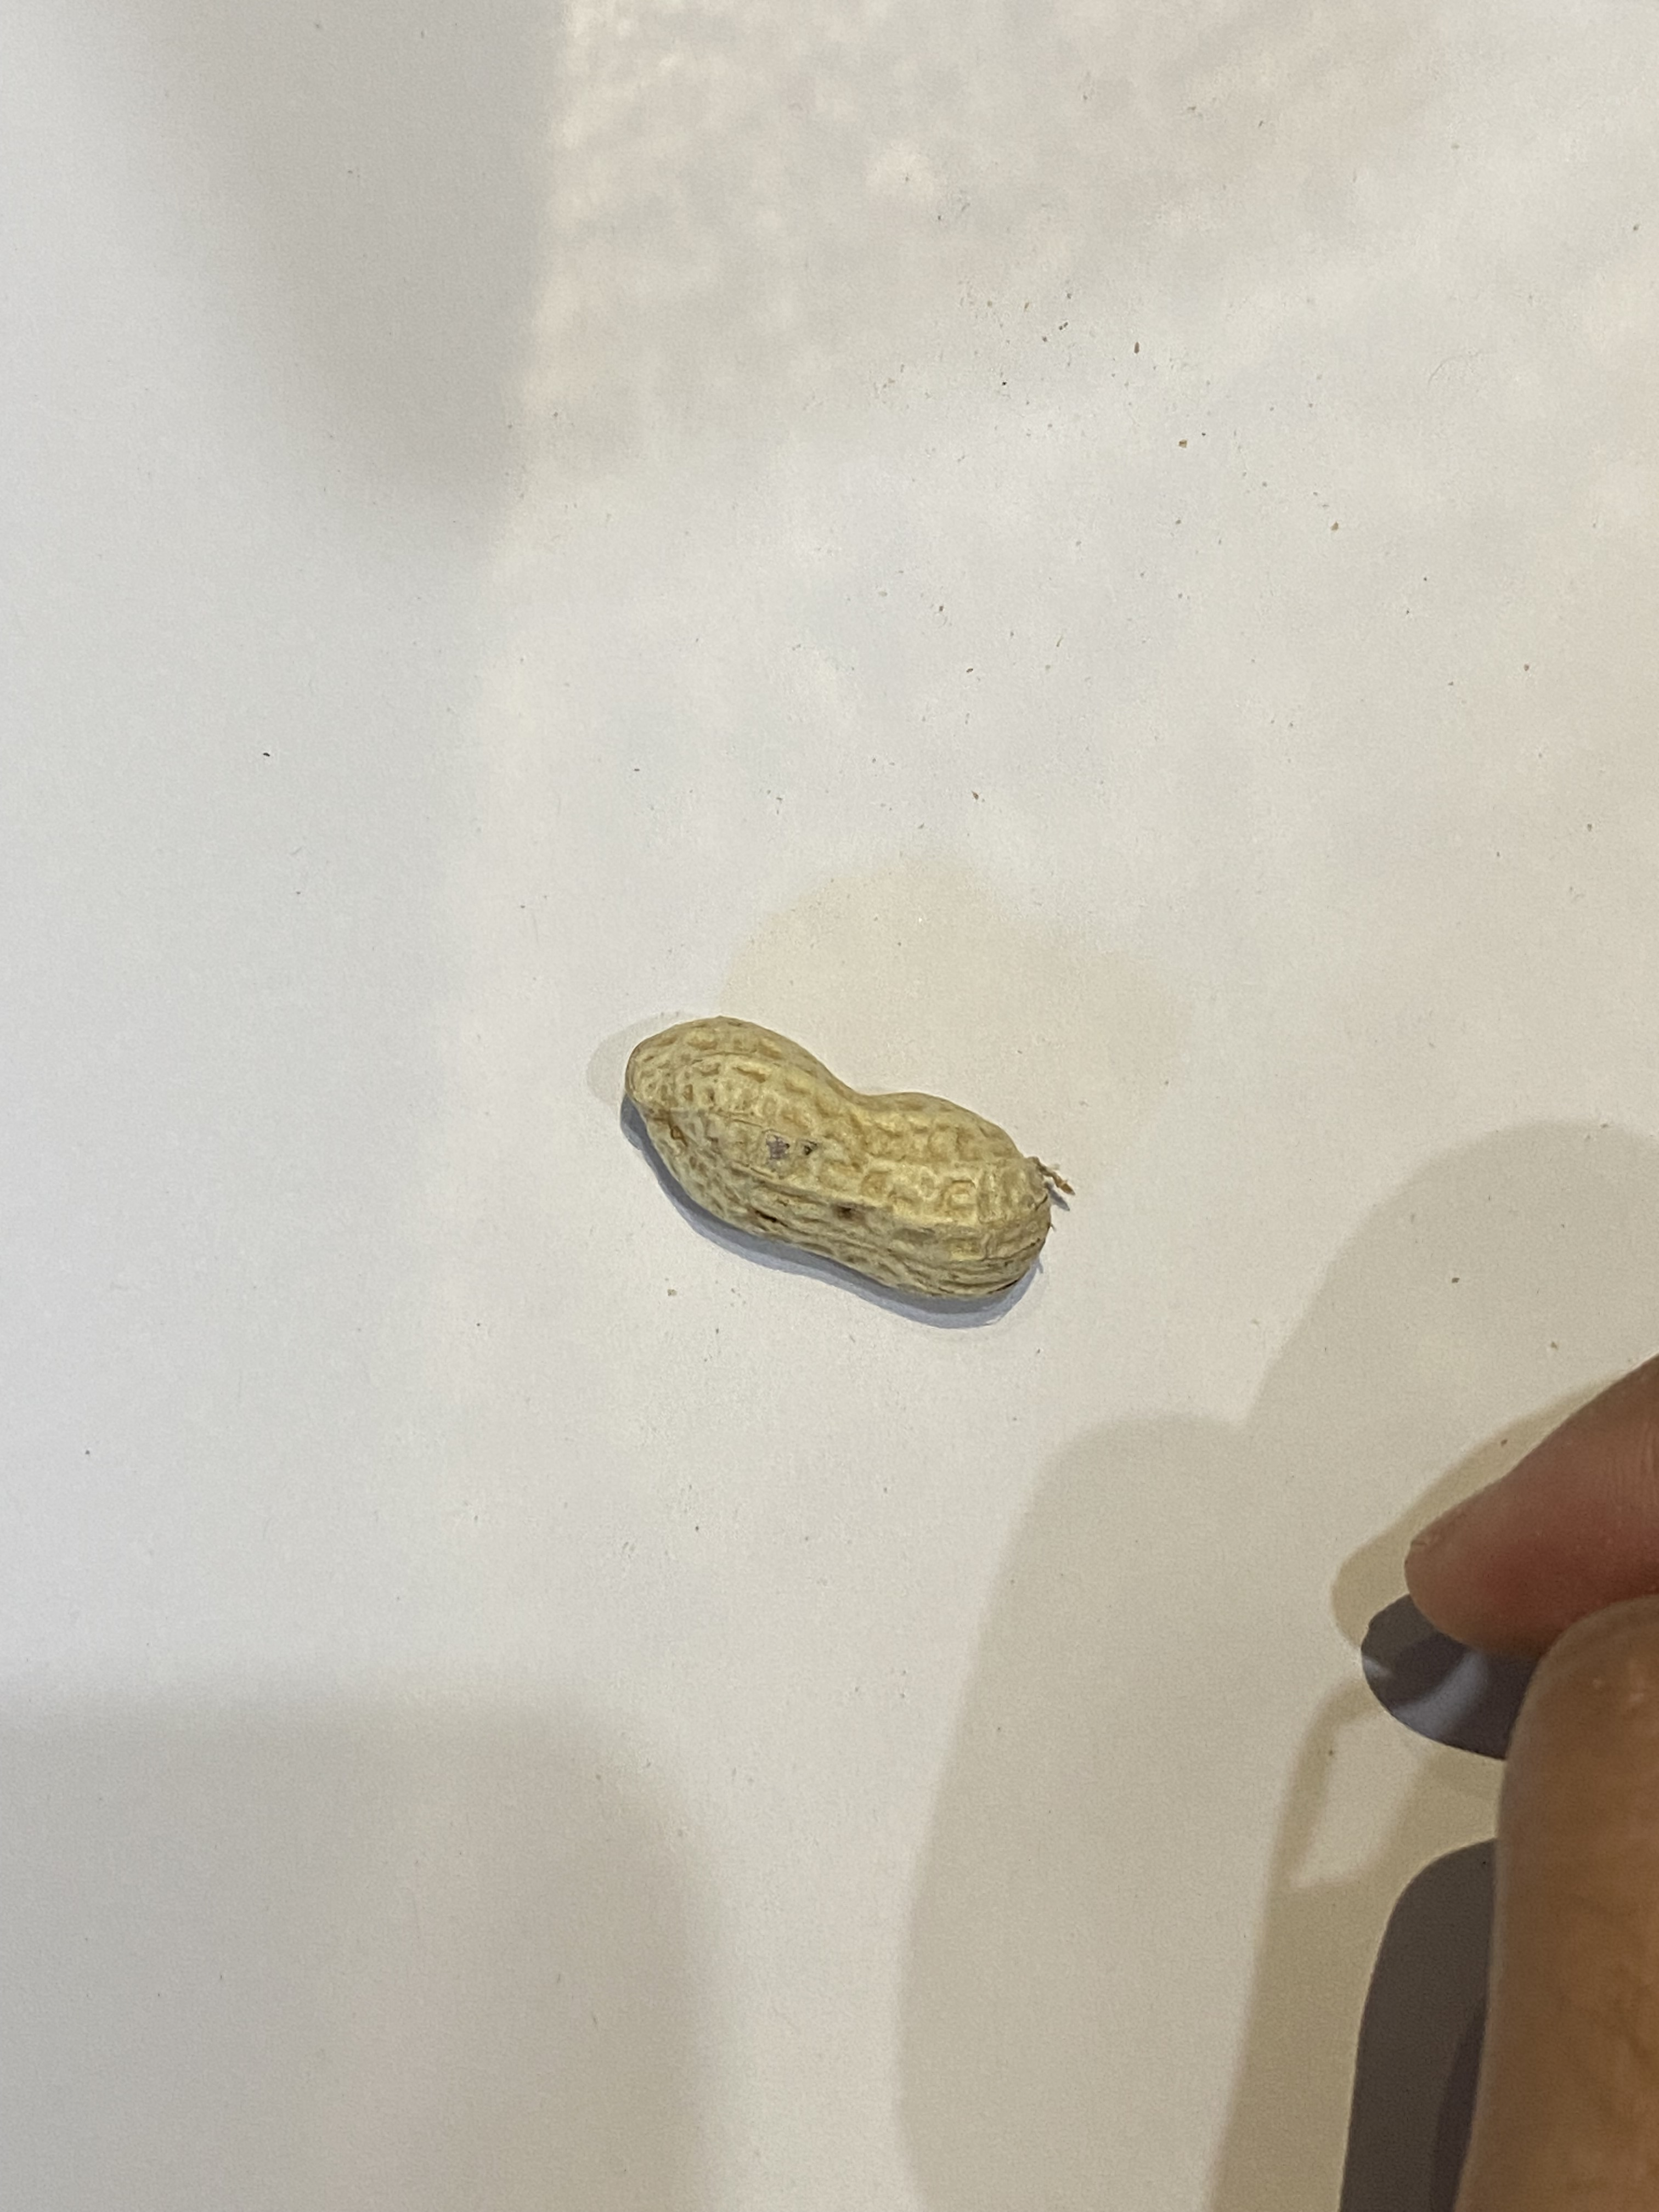kacang2: (598, 1007, 1068, 1312)
